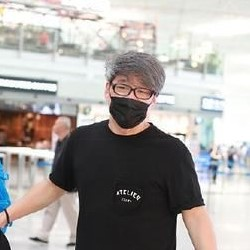mask: (106, 94, 151, 130)
